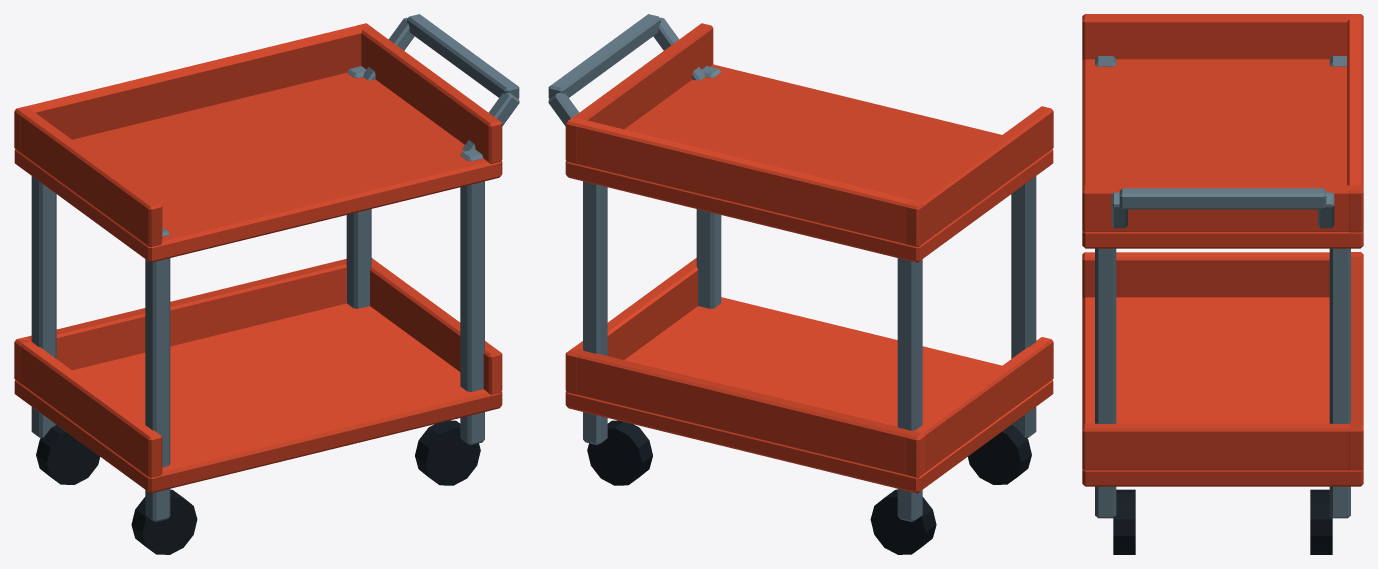
Rendered from EC_ServiceCart.fbx.
The picture shows the model from 3 angles, left to right: view 1: azimuth 30°, elevation 25°; view 2: azimuth 150°, elevation 25°; view 3: azimuth 270°, elevation 25°; orthographic projection. The views are drawn at different scales.
Parts seen in each view (by area): view 1: EC_ServiceCart; view 2: EC_ServiceCart; view 3: EC_ServiceCart.
Part boxes in pixels (<box>): EC_ServiceCart: <box>14,14,519,554</box>; EC_ServiceCart: <box>548,14,1053,554</box>; EC_ServiceCart: <box>1082,14,1363,554</box>.
Bounding box in the file's own units: 0.989 × 0.924 × 0.6.
